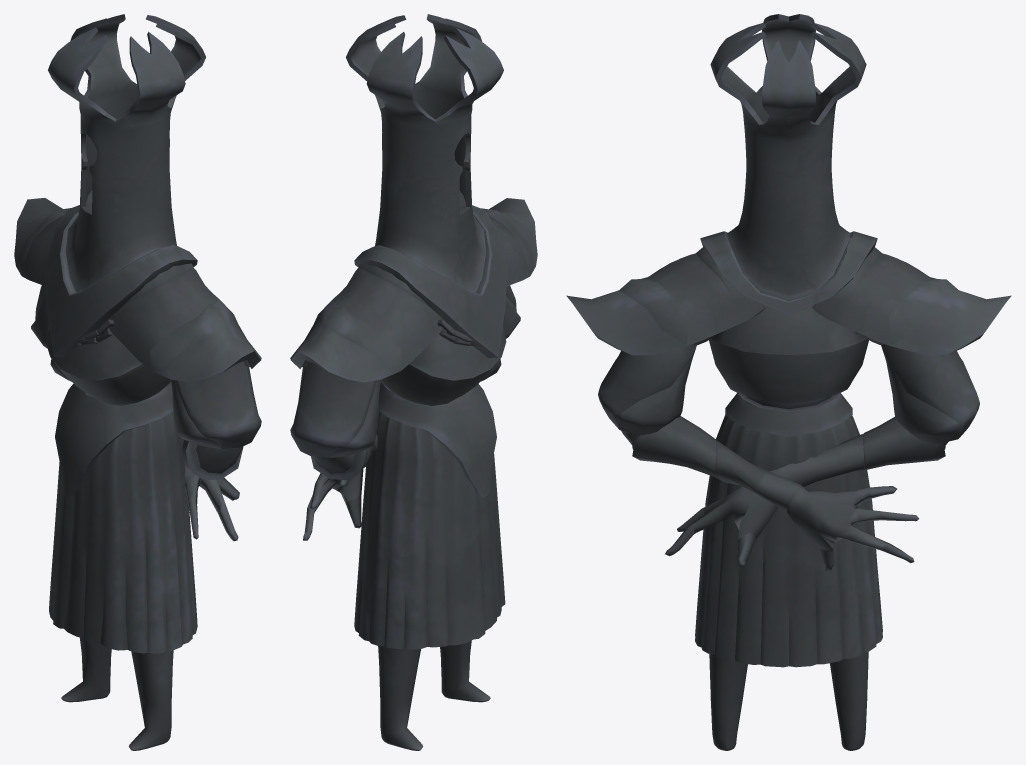
Rendered from Lord1_Statue.fbx.
3 renders of one model, left to right at view 1: azimuth 30°, elevation 25°; view 2: azimuth 150°, elevation 25°; view 3: azimuth 270°, elevation 25°, orthographic. The views are drawn at different scales.
Visible parts, largest first — view 1: Lord1_Statue; view 2: Lord1_Statue; view 3: Lord1_Statue.
Part boxes in pixels (<box>): Lord1_Statue: <box>14,14,261,750</box>; Lord1_Statue: <box>290,14,537,750</box>; Lord1_Statue: <box>566,14,1011,750</box>.
Bounding box in the file's own units: 2.67 × 10.8 × 6.07.
